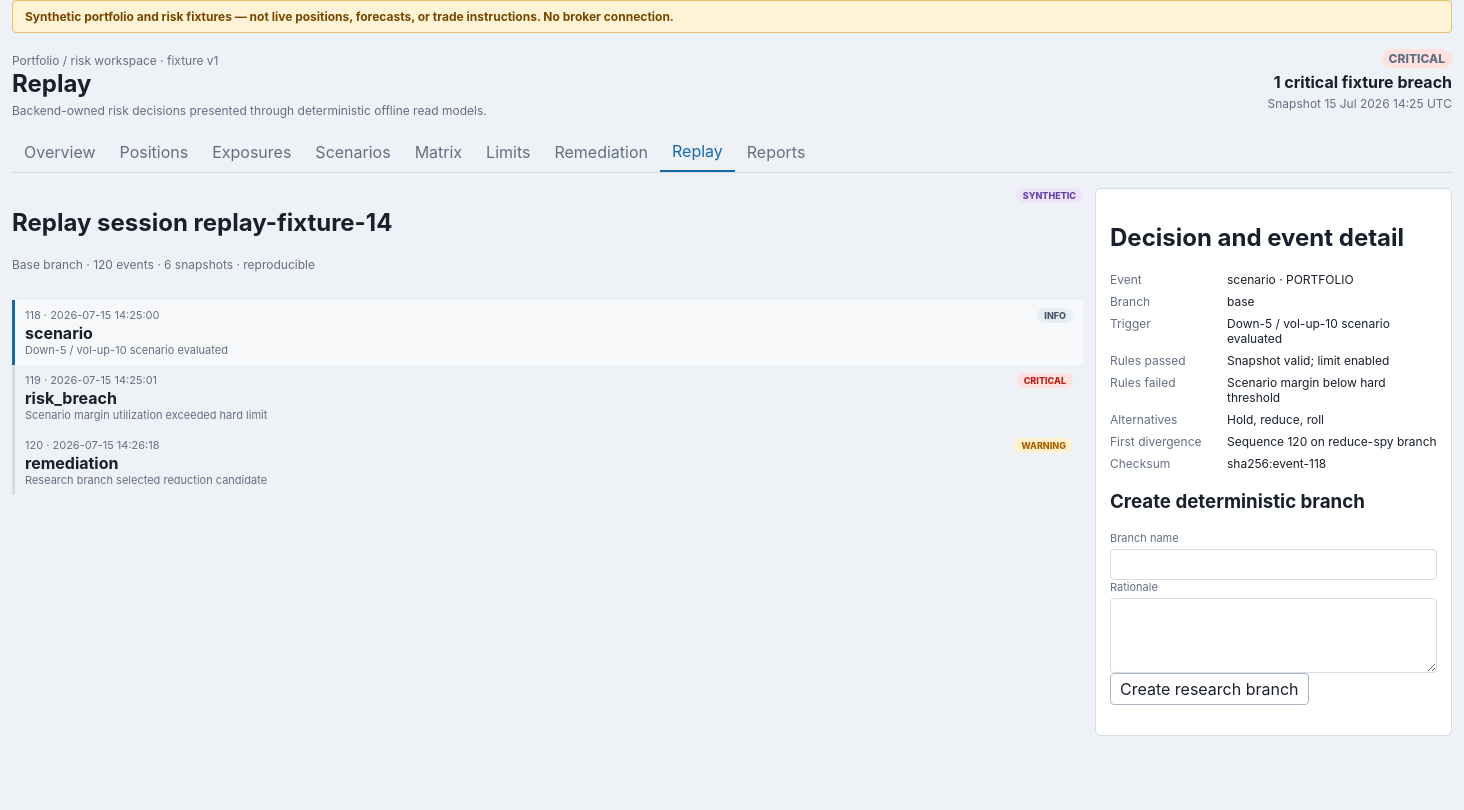
Test: portfolio and risk workspace › creates a replay branch without replacing history
In the field labelled "Branch name": (1274, 565) [1110,549,1437,580], type "Reduce SPY"
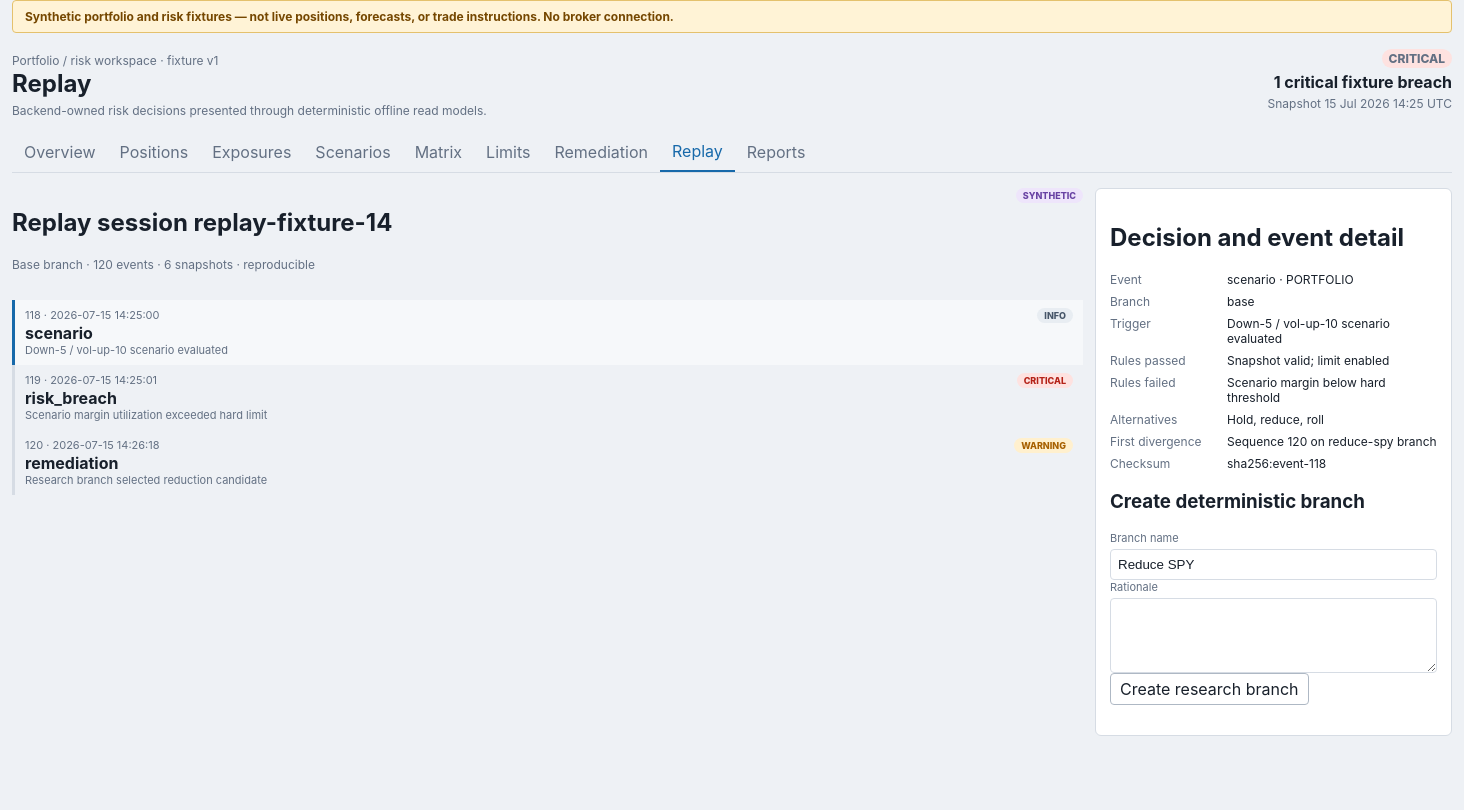
In the text box labelled "Rationale": (1274, 636) [1110,598,1437,673], type "Compare stressed margin"
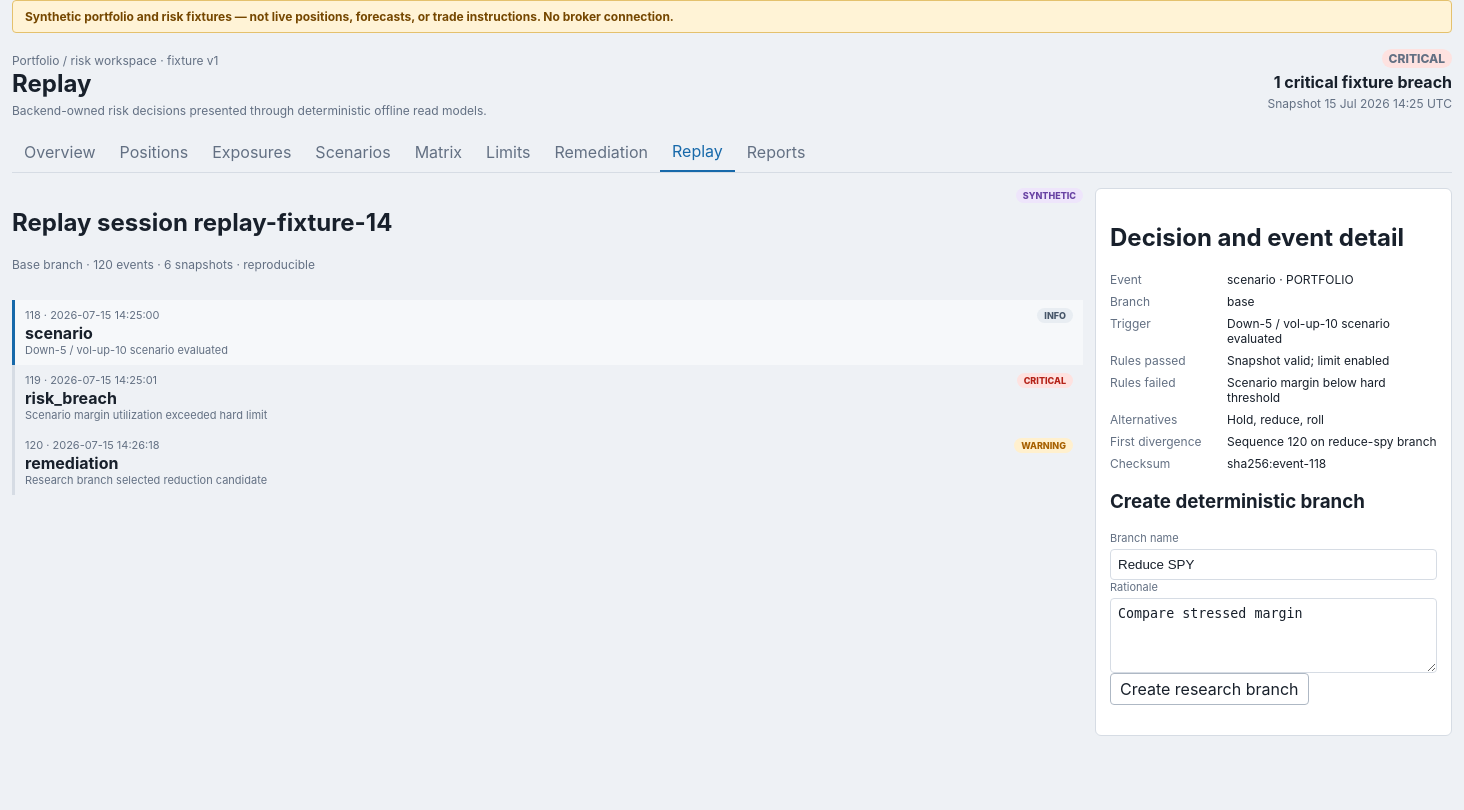
Click the button "Create research branch": (1209, 689) [1110,673,1308,705]
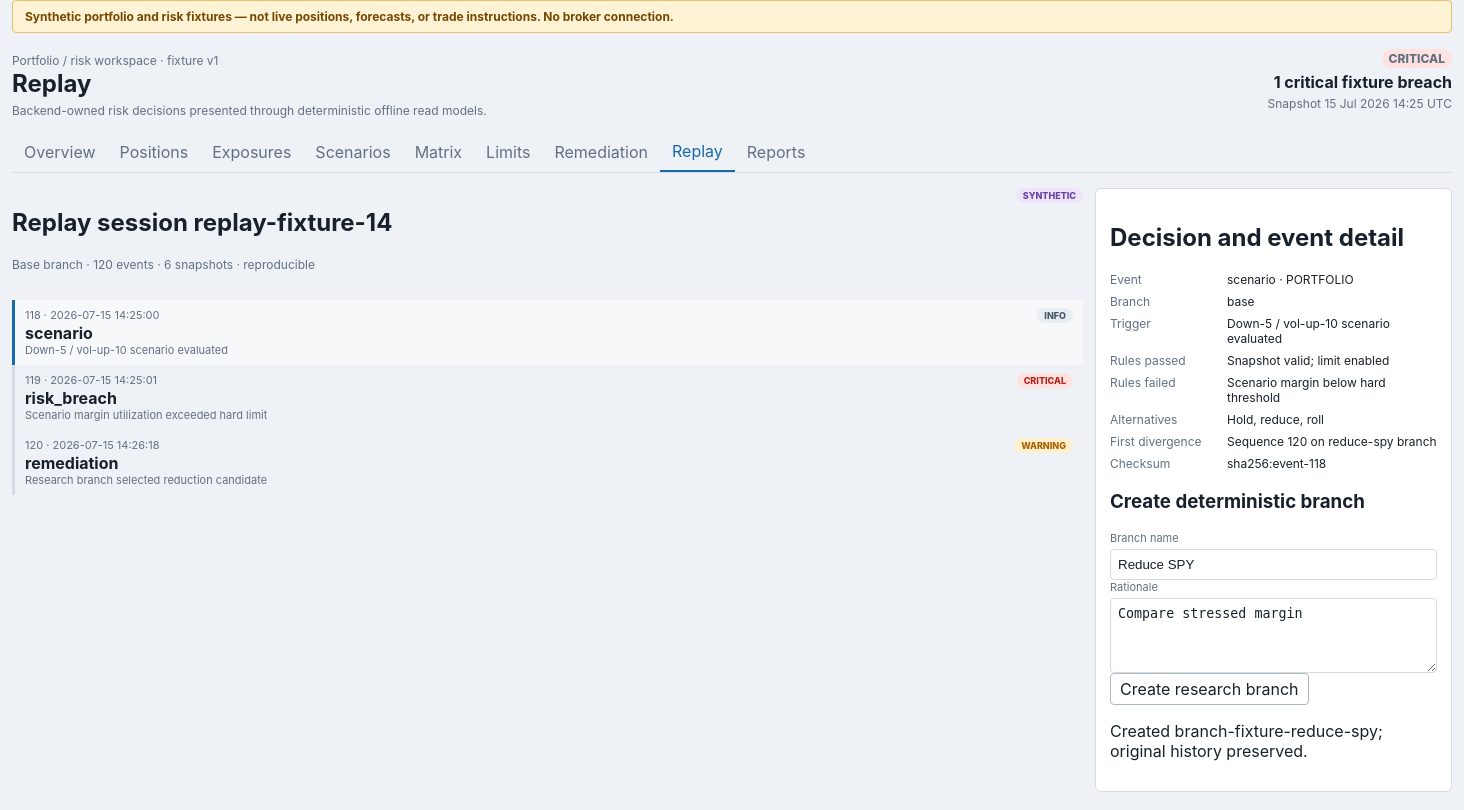
Check: the text "original history preserved" is shown, box [1110,721,1383,761]
